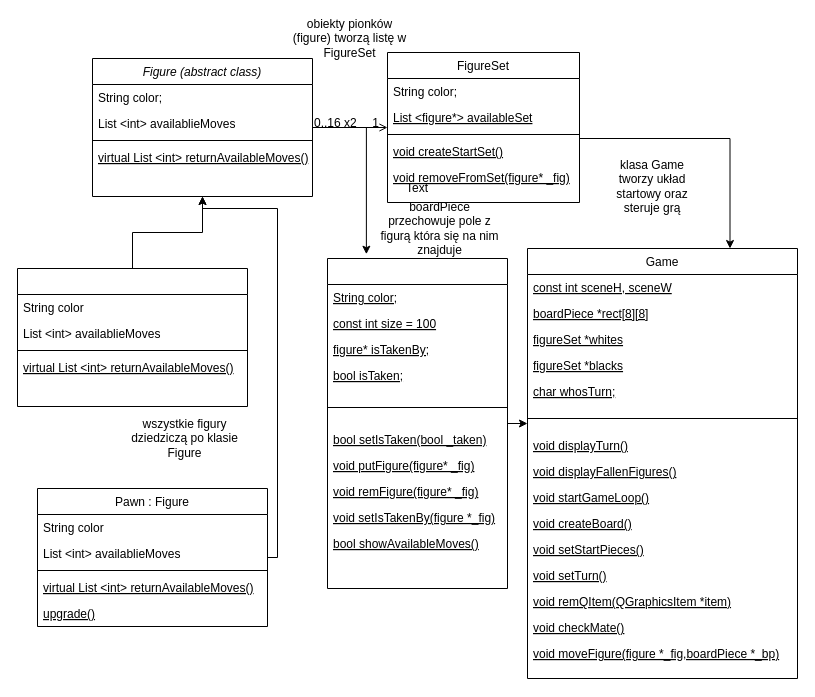
This 815x697 diagram has some shape labels left out. Each missing label, with the box of its shape:
BoardPiece: (326, 258, 508, 588)
Rook : Figure: (16, 268, 248, 406)
